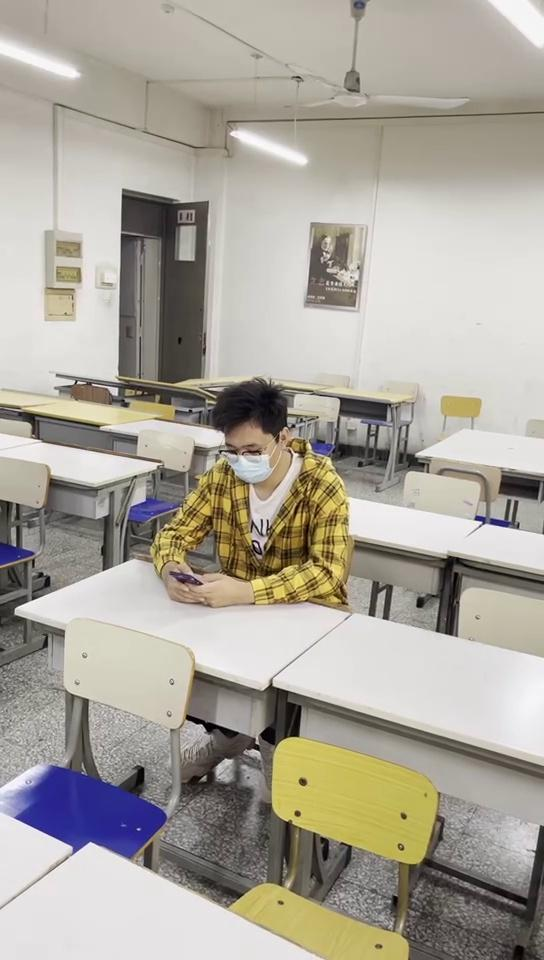phone: (153, 382, 352, 608)
